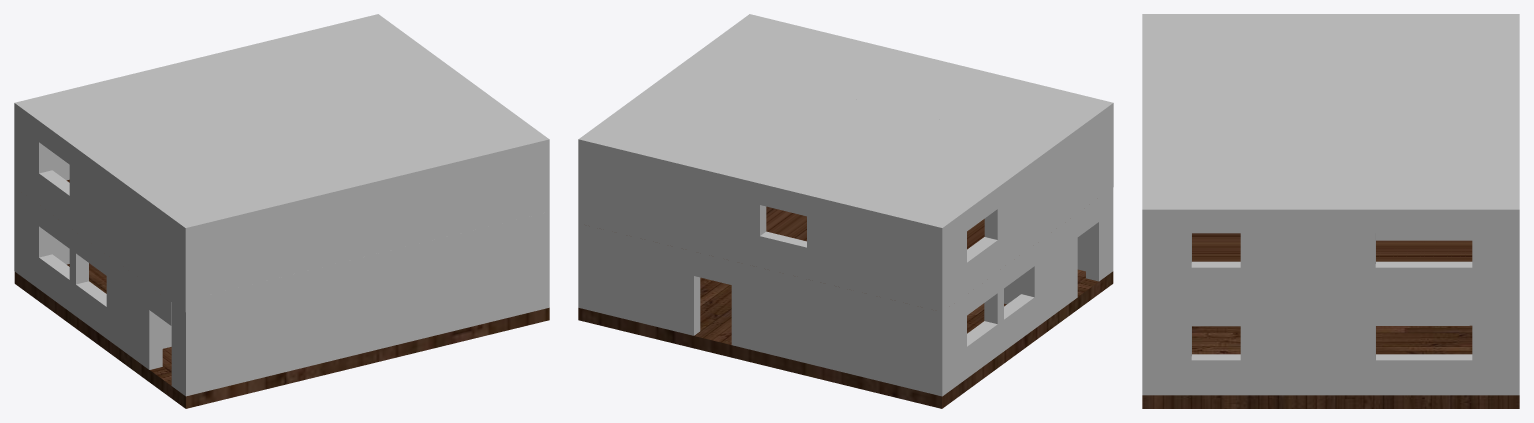
The model's file is house5.fbx.
The picture shows the model from 3 angles, left to right: view 1: azimuth 30°, elevation 25°; view 2: azimuth 150°, elevation 25°; view 3: azimuth 270°, elevation 25°; orthographic projection. The views are drawn at different scales.
Parts seen in each view (by area): view 1: pasted__pasted__pCube1; view 2: pasted__pasted__pCube1; view 3: pasted__pasted__pCube1.
Boxes of the visible parts, x1=… form: pasted__pasted__pCube1: x1=14, y1=14, x2=549, y2=408; pasted__pasted__pCube1: x1=578, y1=14, x2=1113, y2=408; pasted__pasted__pCube1: x1=1142, y1=14, x2=1519, y2=408.
Bounding box in the file's own units: 29.37 × 13.95 × 23.93.
